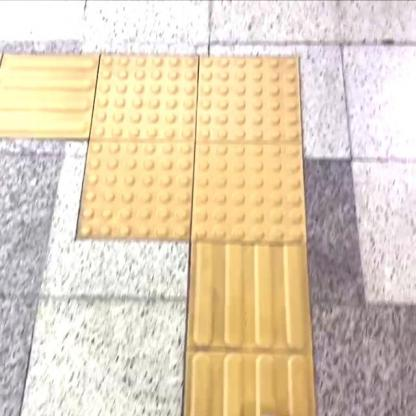podotacti: (58, 27, 330, 288), (189, 250, 315, 415)
